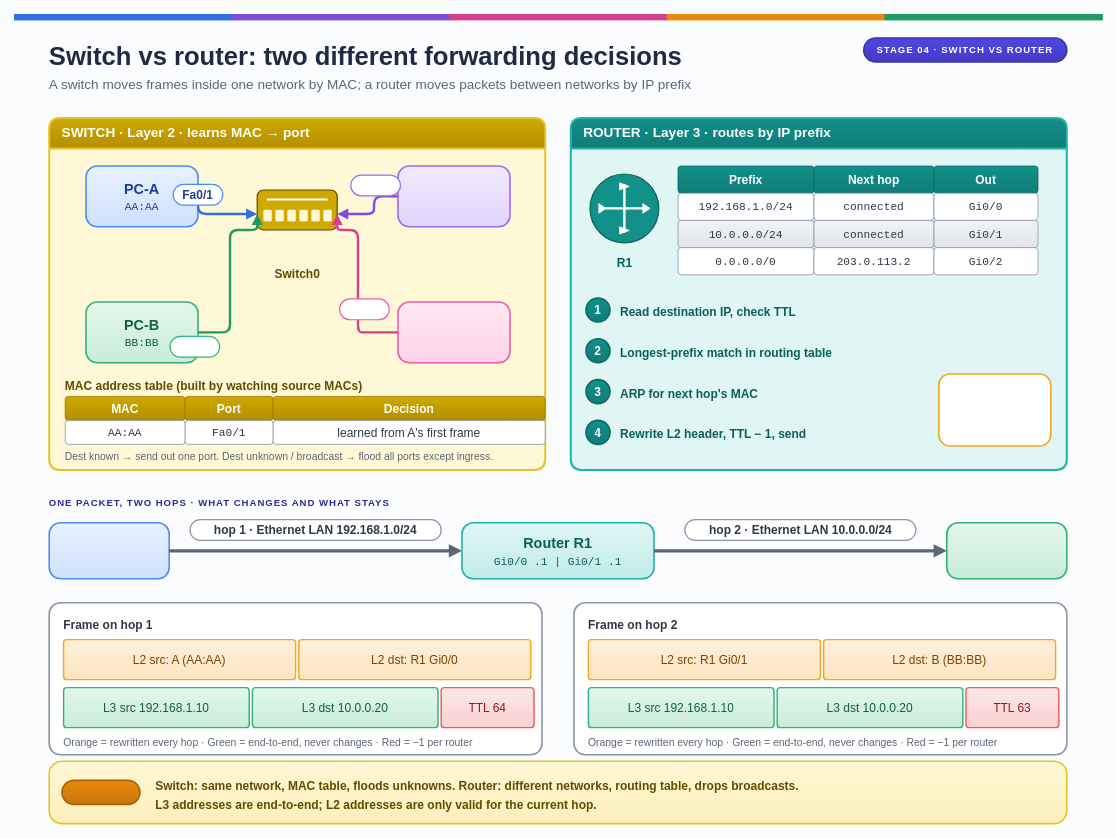
The diagram is 1116 pixels wide and 838 high, and some of its shapes have lost their labels. Here are the shapes that lost their labels. From the top down, the centre of each, then its label:
(375,185): Fa0/3
(453,196): PC-C CC:CC
(364,309): Fa0/4
(194,346): Fa0/2
(453,332): PC-D DD:DD
(994,409): LONGEST MATCH /26 beats /24 /24 beats /0
(109,550): Host A 192.168.1.10
(1006,550): Host B 10.0.0.20
(100,792): REMEMBER
